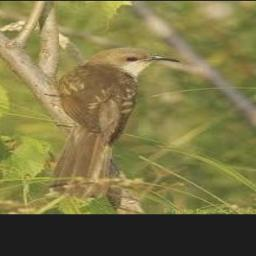Cuckoo: (45, 47, 179, 199)
